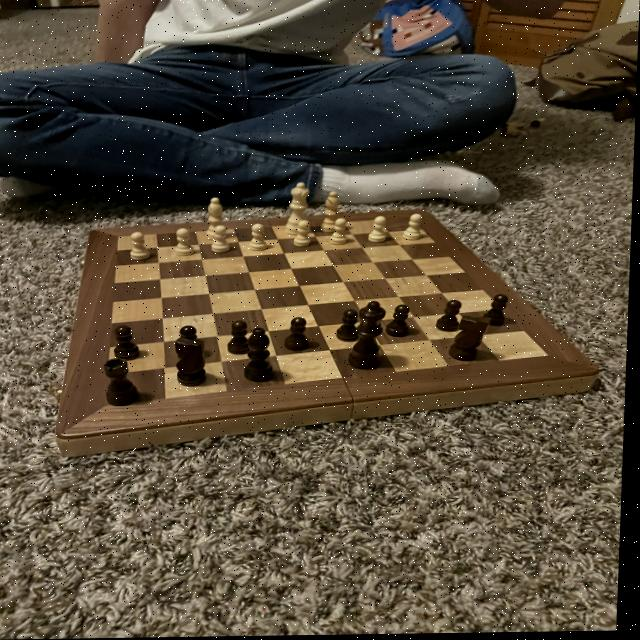bishop: (242, 325, 280, 385)
black-king: (448, 314, 494, 366), (171, 337, 211, 389)
black-knight: (280, 315, 316, 356), (110, 324, 148, 362), (384, 303, 416, 342), (174, 324, 206, 362), (436, 298, 467, 335), (229, 318, 257, 358), (483, 293, 514, 329), (337, 307, 366, 344)
black-pawn: (347, 300, 391, 374)
black-queen: (101, 354, 147, 409)
white-knight: (204, 196, 231, 242), (320, 191, 344, 235), (173, 227, 198, 258), (129, 231, 154, 262), (401, 213, 426, 243), (367, 215, 391, 245), (248, 223, 272, 253), (211, 225, 234, 255), (293, 219, 315, 249), (329, 218, 351, 247)
white-pawn: (285, 181, 315, 238)
